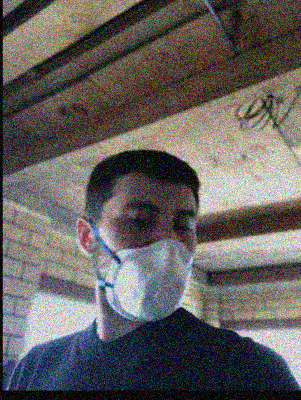with_mask: (100, 194, 197, 319)
